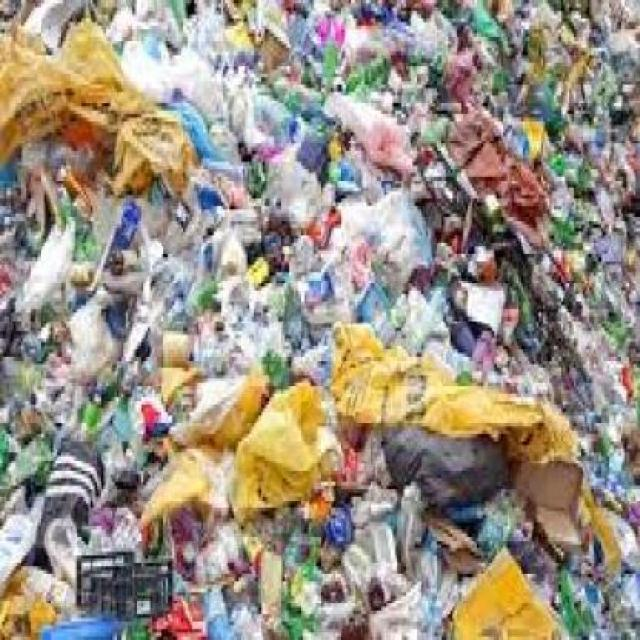garbage: (5, 19, 634, 618)
